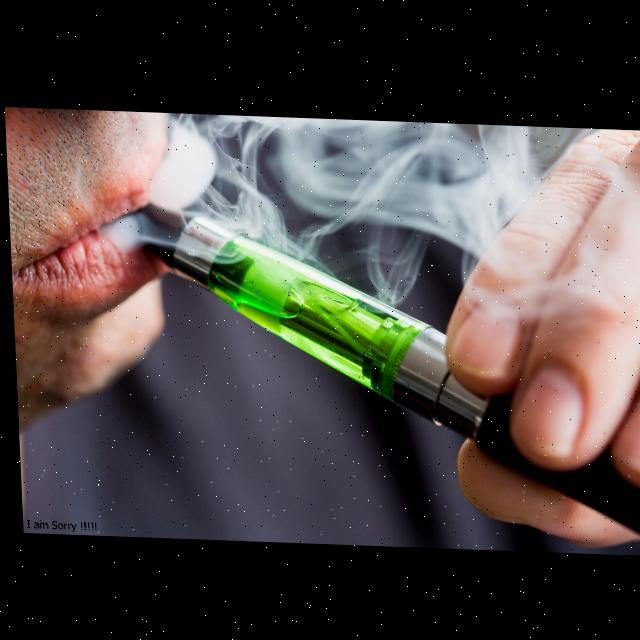vape: (137, 202, 640, 542)
